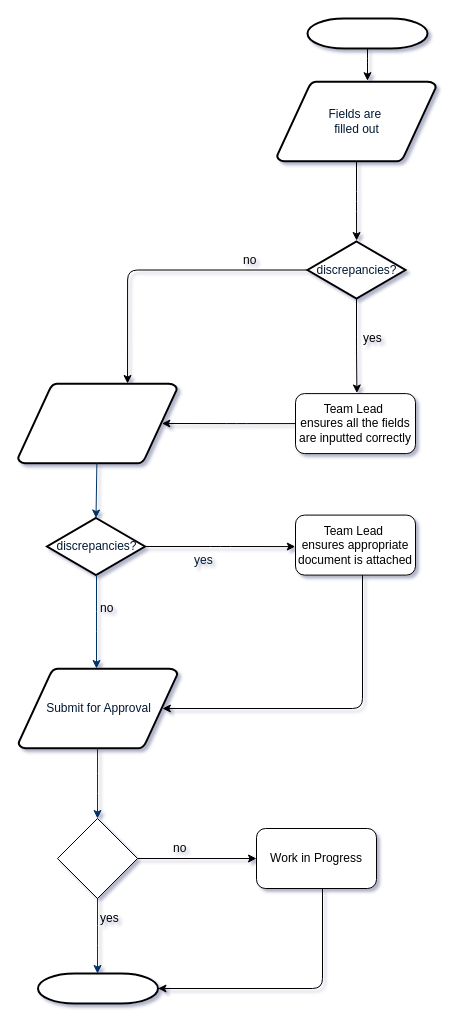
This 460x1027 diagram has some shape labels left out. The shapes that lost their labels are listed below. From the top down, each one's box as (x1, y1, x2, y2) in pixels, then its label:
(306, 17, 428, 49): New
(16, 382, 178, 464): Document is attached
(56, 818, 138, 898): Approve?
(36, 972, 158, 1004): Closed Complete
